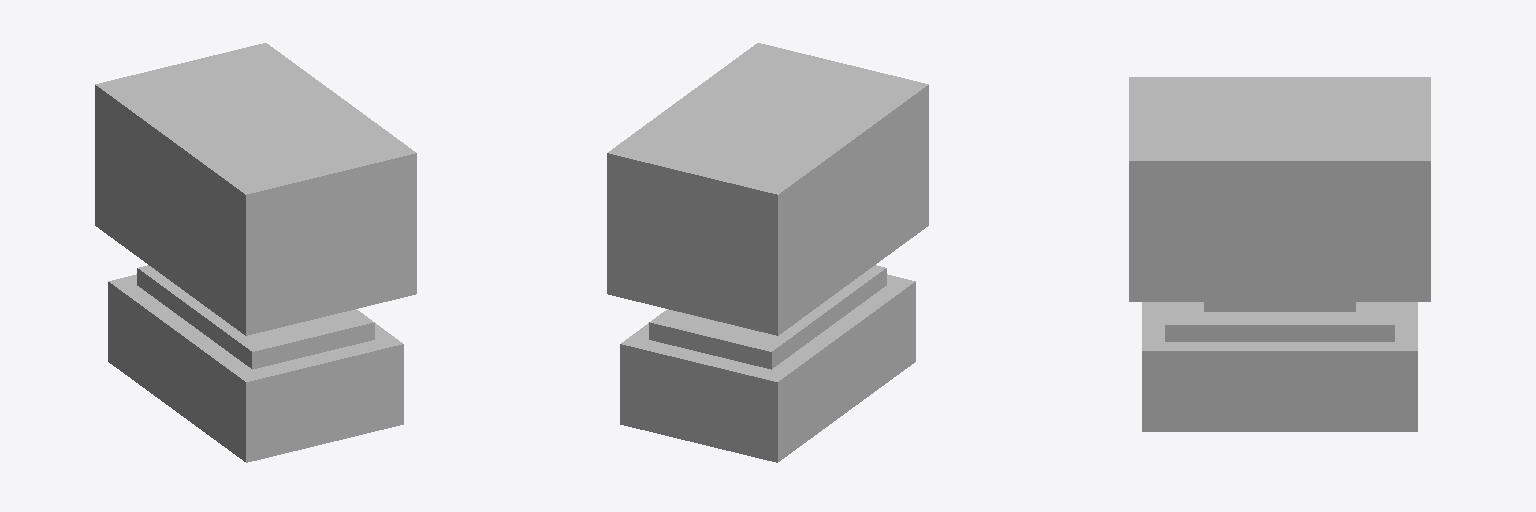
File: anvil.obj
The picture shows the model from 3 angles: view 1: azimuth 30°, elevation 25°; view 2: azimuth 150°, elevation 25°; view 3: azimuth 270°, elevation 25°; orthographic projection.
Parts seen in each view (by area): view 1: Cube.001; view 2: Cube.001; view 3: Cube.001.
Boxes of the visible parts, x1=… form: Cube.001: x1=95, y1=43, x2=416, y2=462; Cube.001: x1=607, y1=43, x2=928, y2=462; Cube.001: x1=1129, y1=77, x2=1430, y2=431.
Bounding box in the file's own units: 1.31 × 2 × 1.99.